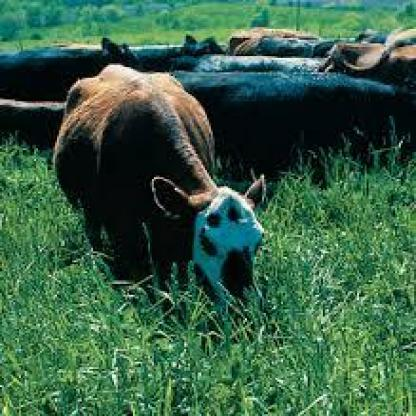cow: (51, 67, 266, 324), (168, 72, 400, 176)
